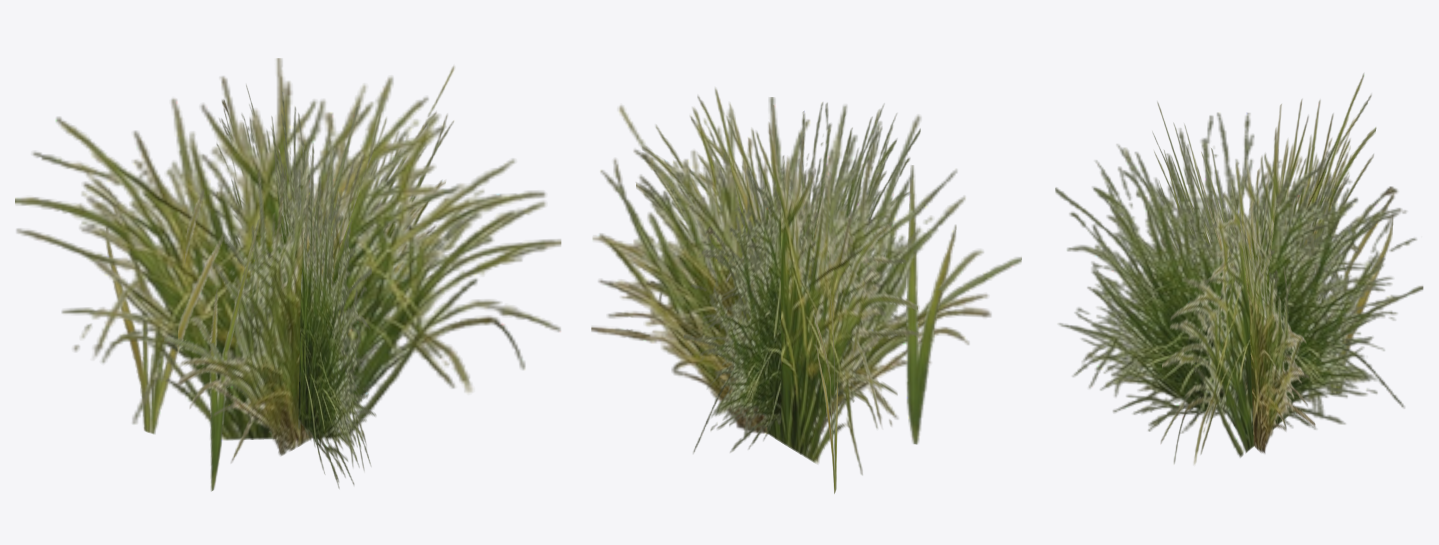
Rendered from grass_a.glb.
The picture shows the model from 3 angles, left to right: view 1: azimuth 30°, elevation 25°; view 2: azimuth 150°, elevation 25°; view 3: azimuth 270°, elevation 25°; orthographic projection. The views are drawn at different scales.
Parts seen in each view (by area): view 1: grass_a; view 2: grass_a; view 3: grass_a.
Boxes of the visible parts, box(x1,y1,x2,y2) form: grass_a: box(15, 58, 561, 491); grass_a: box(591, 88, 1021, 493); grass_a: box(1055, 73, 1423, 464).
Size of the model in its own units: 0.6476 by 0.5332 by 0.5363.
1 material, 1 textured.
